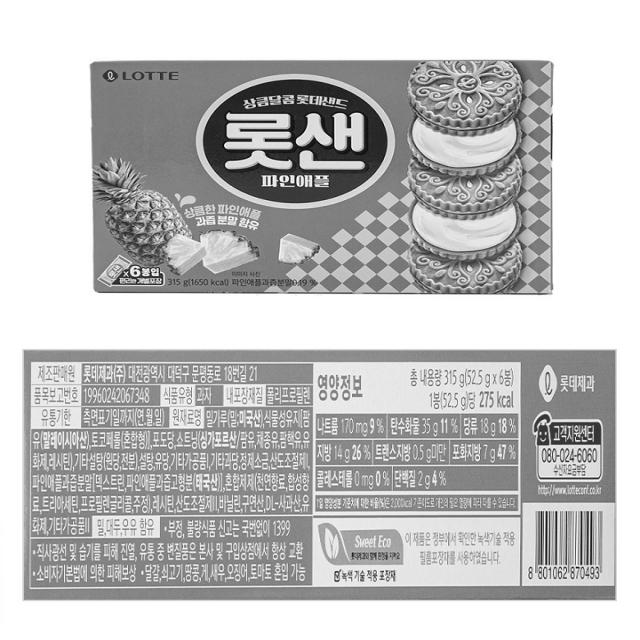Nutrition Label: (308, 356, 528, 520)
